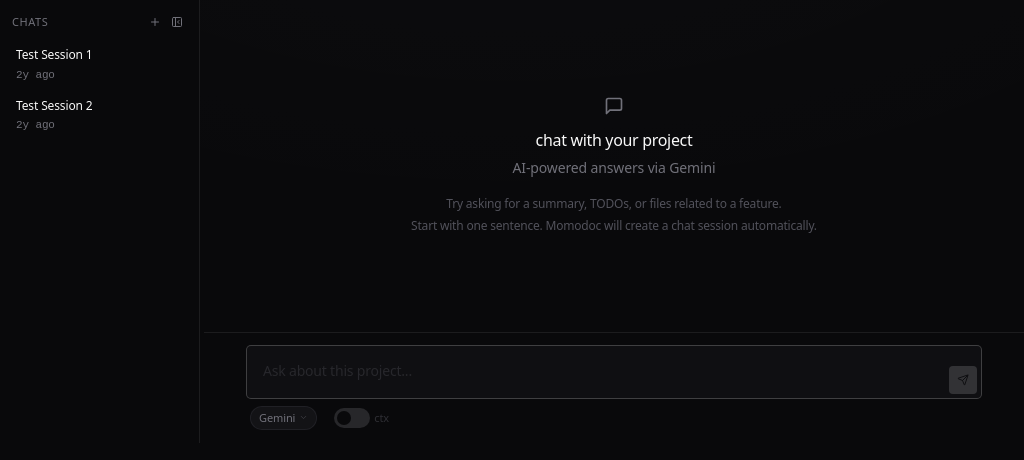
Test case: UnifiedSearchChat › Session Management › should delete session after confirmation
Expected: the text "Test Session 1" is shown, 16,46 -> 93,63
// Hover over session to show delete button
Hover over the button "Test Session 1 2y ago": x=100, y=65 16,46 -> 185,84
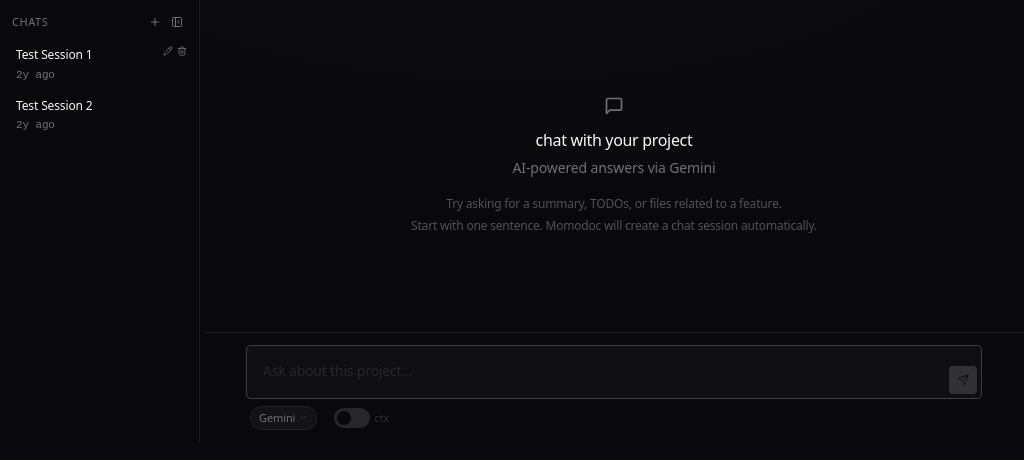
// Click delete button once for confirmation
Click the button named "delete": x=182, y=51 175,44 -> 189,58
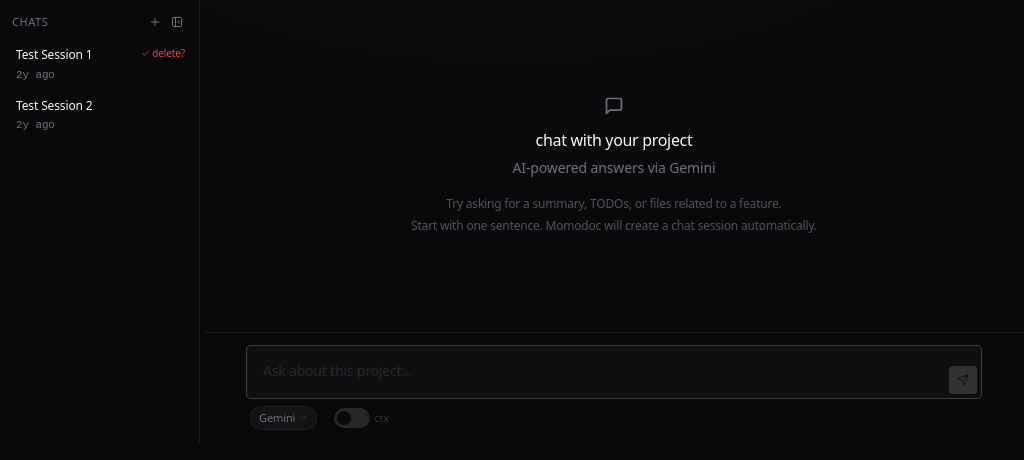
// Click again to confirm
Click the button "delete?": x=163, y=54 137,44 -> 189,64
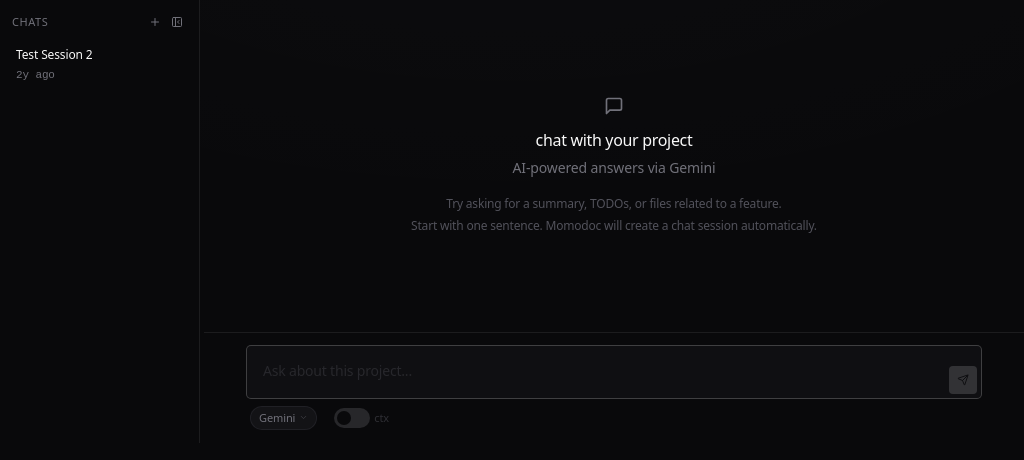
Expected: the button "Test Session 1" is gone
